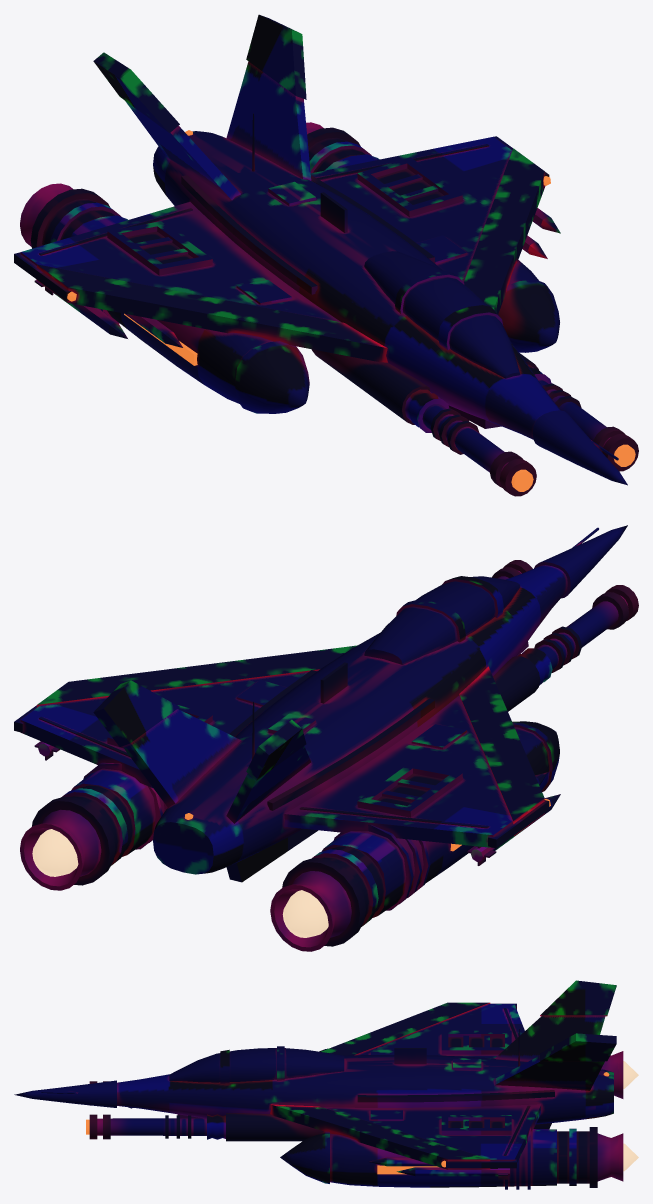
The model's file is void_interceptor.glb.
The picture shows the model from 3 angles, top to bottom: view 1: azimuth 30°, elevation 25°; view 2: azimuth 150°, elevation 25°; view 3: azimuth 270°, elevation 25°; orthographic projection. The views are drawn at different scales.
Parts seen in each view (by area): view 1: void_interceptor; view 2: void_interceptor; view 3: void_interceptor.
Boxes of the visible parts, bbox=[...] form: void_interceptor: bbox=[14, 14, 638, 496]; void_interceptor: bbox=[14, 525, 638, 951]; void_interceptor: bbox=[14, 980, 638, 1189].
Bounding box in the file's own units: 3.97 × 1.62 × 6.61.
13 materials, 11 textured.
